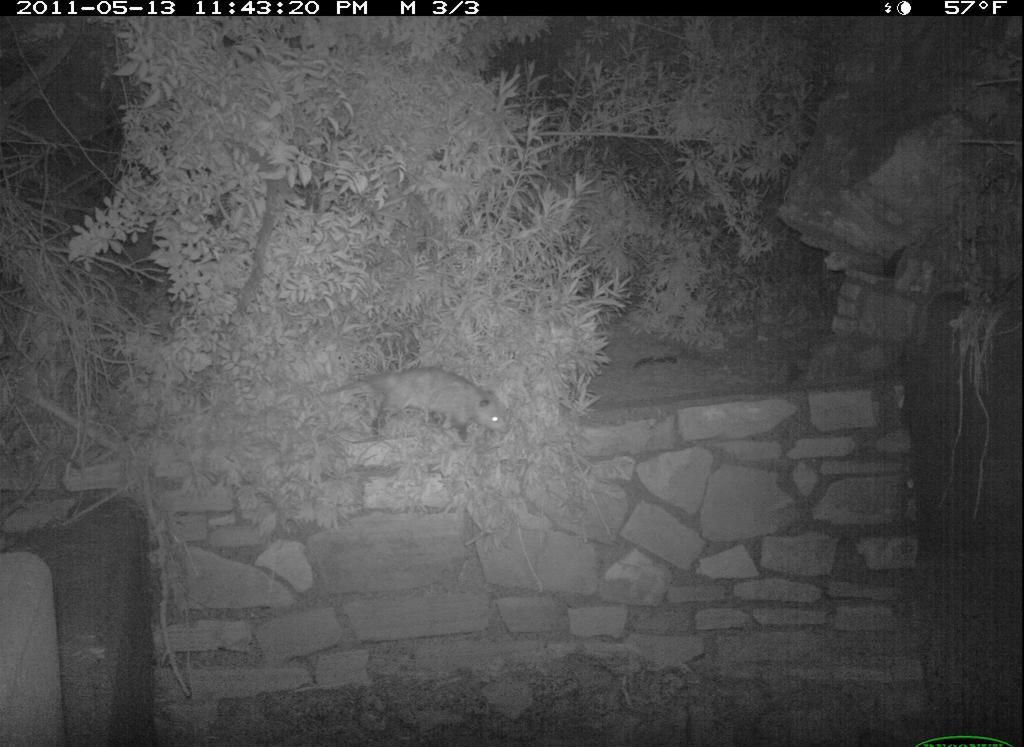opossum: (329, 364, 520, 457)
